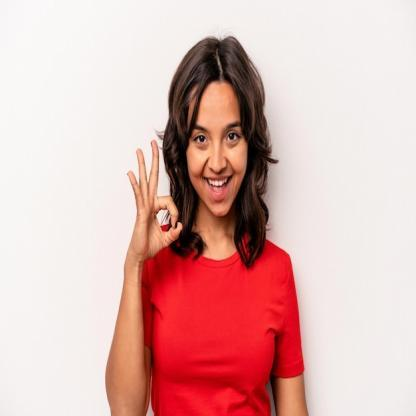ok: (126, 135, 183, 265)
